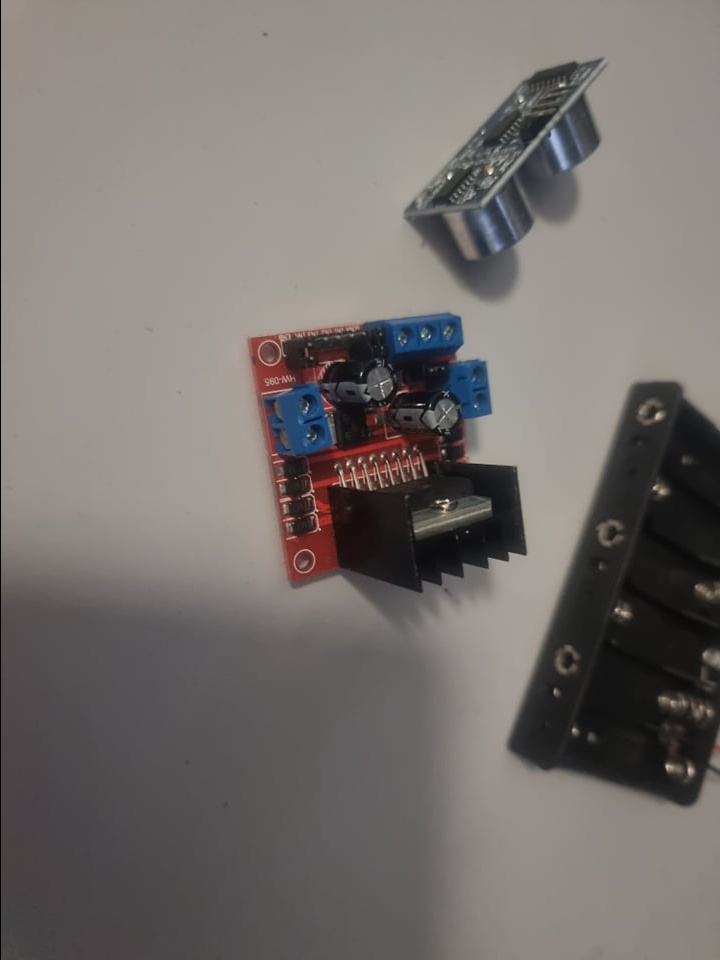BATTERY BOX: (501, 374, 716, 810)
MOTOR: (246, 312, 528, 593)
SENSOR: (401, 60, 607, 259)
